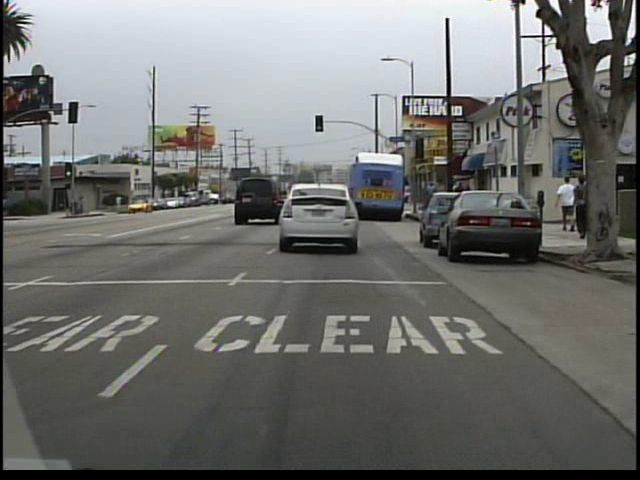person: (551, 172, 575, 235), (569, 175, 589, 238), (422, 180, 441, 220), (115, 195, 125, 212)
